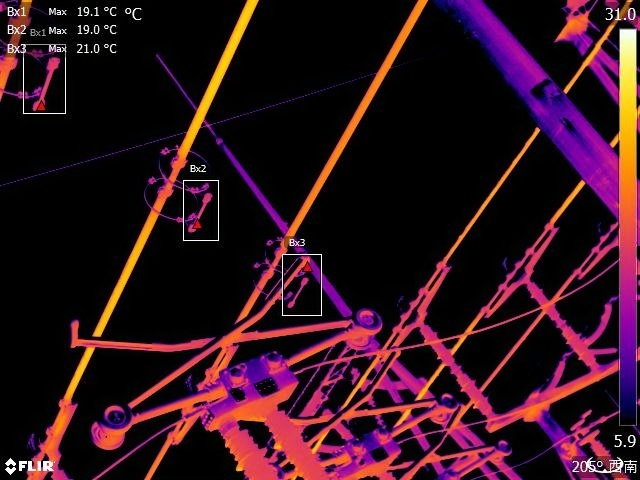post insulator: (419, 319, 492, 418), (527, 279, 598, 375), (269, 405, 329, 480), (219, 413, 275, 480)
switch: (74, 231, 383, 446), (273, 337, 440, 466)
